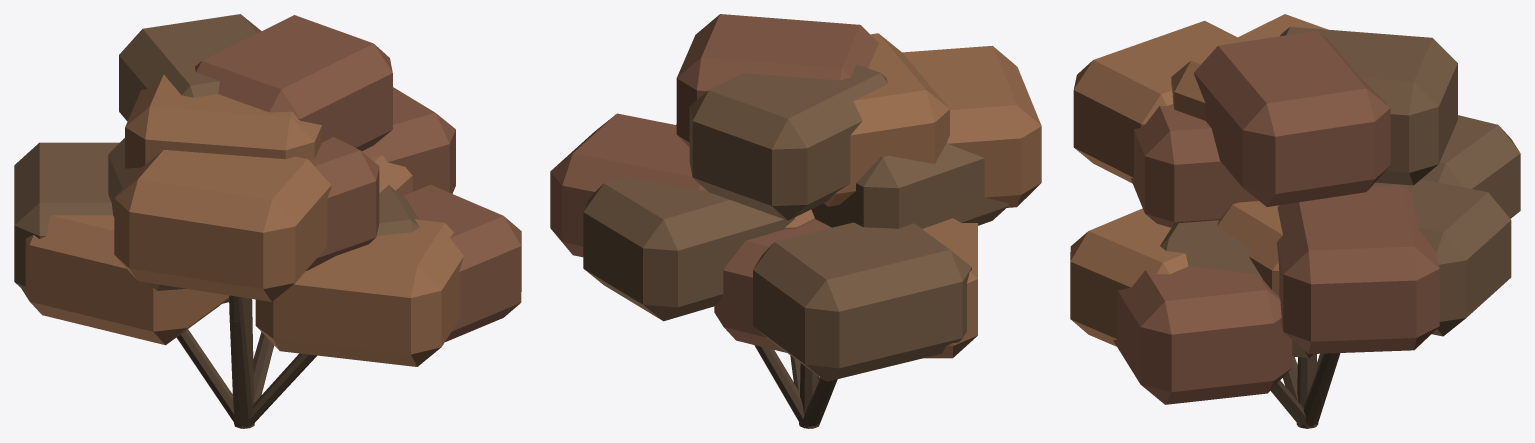
The model's file is blueberry_autumn.glb.
3 views of the same model, side by side, from view 1: azimuth 30°, elevation 25°; view 2: azimuth 150°, elevation 25°; view 3: azimuth 270°, elevation 25° (orthographic).
Visible parts, largest first — view 1: blueberry_autumn; view 2: blueberry_autumn; view 3: blueberry_autumn.
Boxes of the visible parts, x1,y1,x2,y2 form: blueberry_autumn: (14, 14, 521, 428); blueberry_autumn: (550, 14, 1041, 428); blueberry_autumn: (1070, 14, 1520, 428).
Size of the model in its own units: 1.75 by 1.52 by 1.65.
